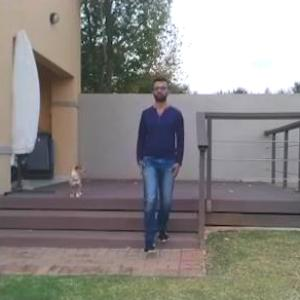follow: (143, 74, 187, 252)
